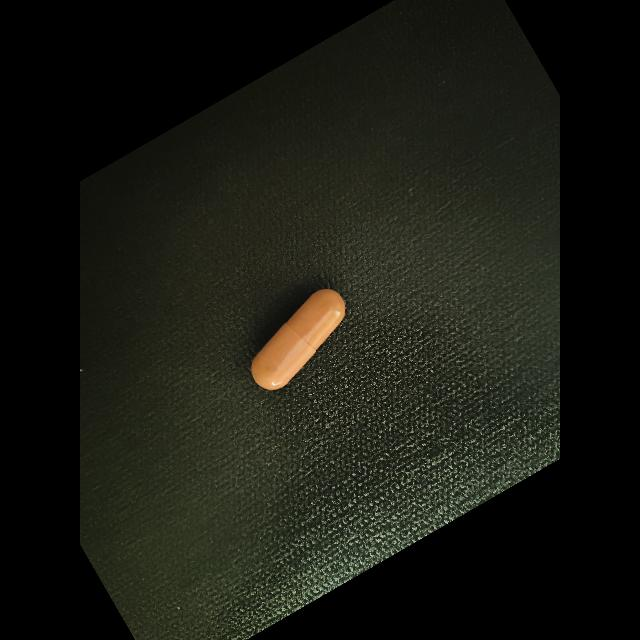Intact Capsule: (251, 289, 346, 390)
